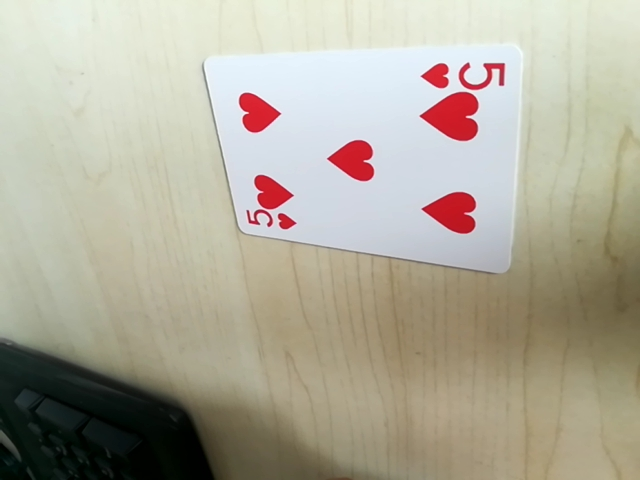hx 5: (417, 52, 509, 94), (242, 208, 301, 236)
